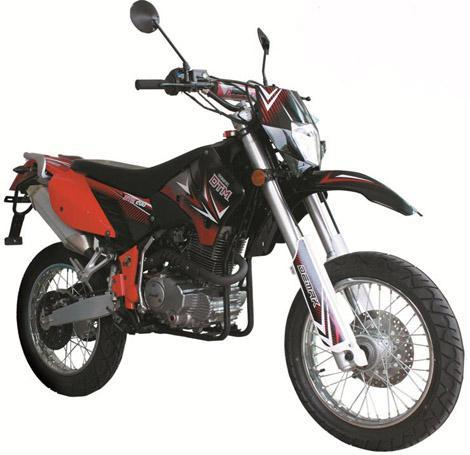motorbike: (3, 1, 464, 452)
